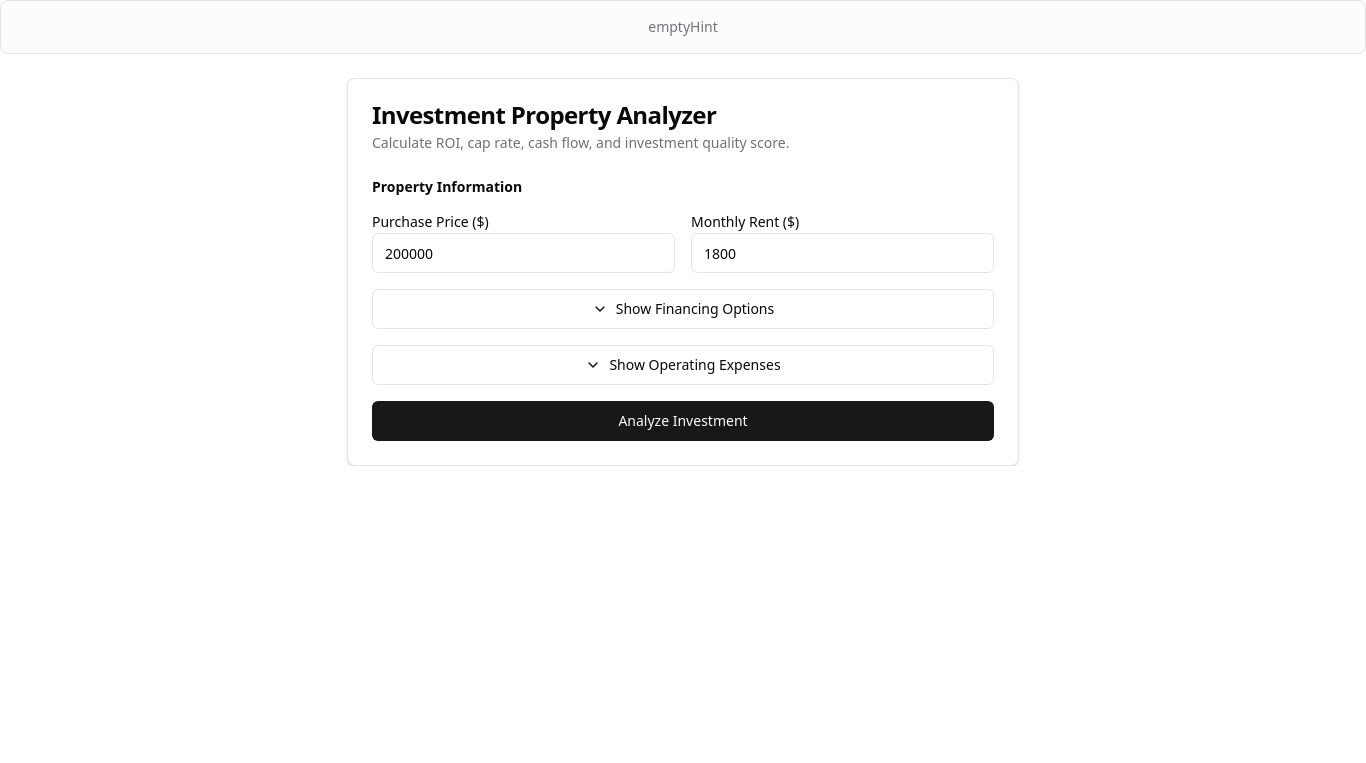
Test: InvestmentAnalyzer › displays excellent score for high values
Click the button "Analyze Investment": click(683, 421) 372,401 -> 994,441
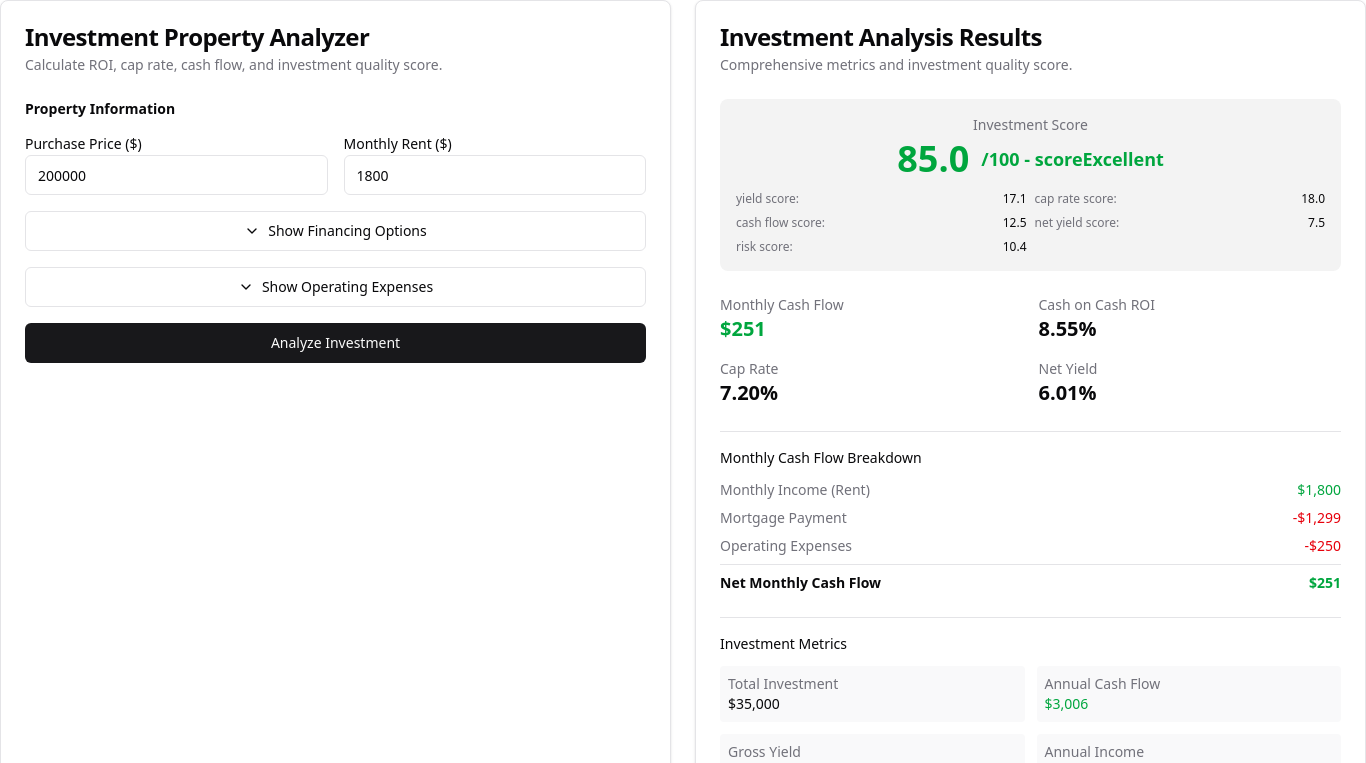
Now the heading "Investment Analysis Results" is shown, box 720,20 -> 1042,53
